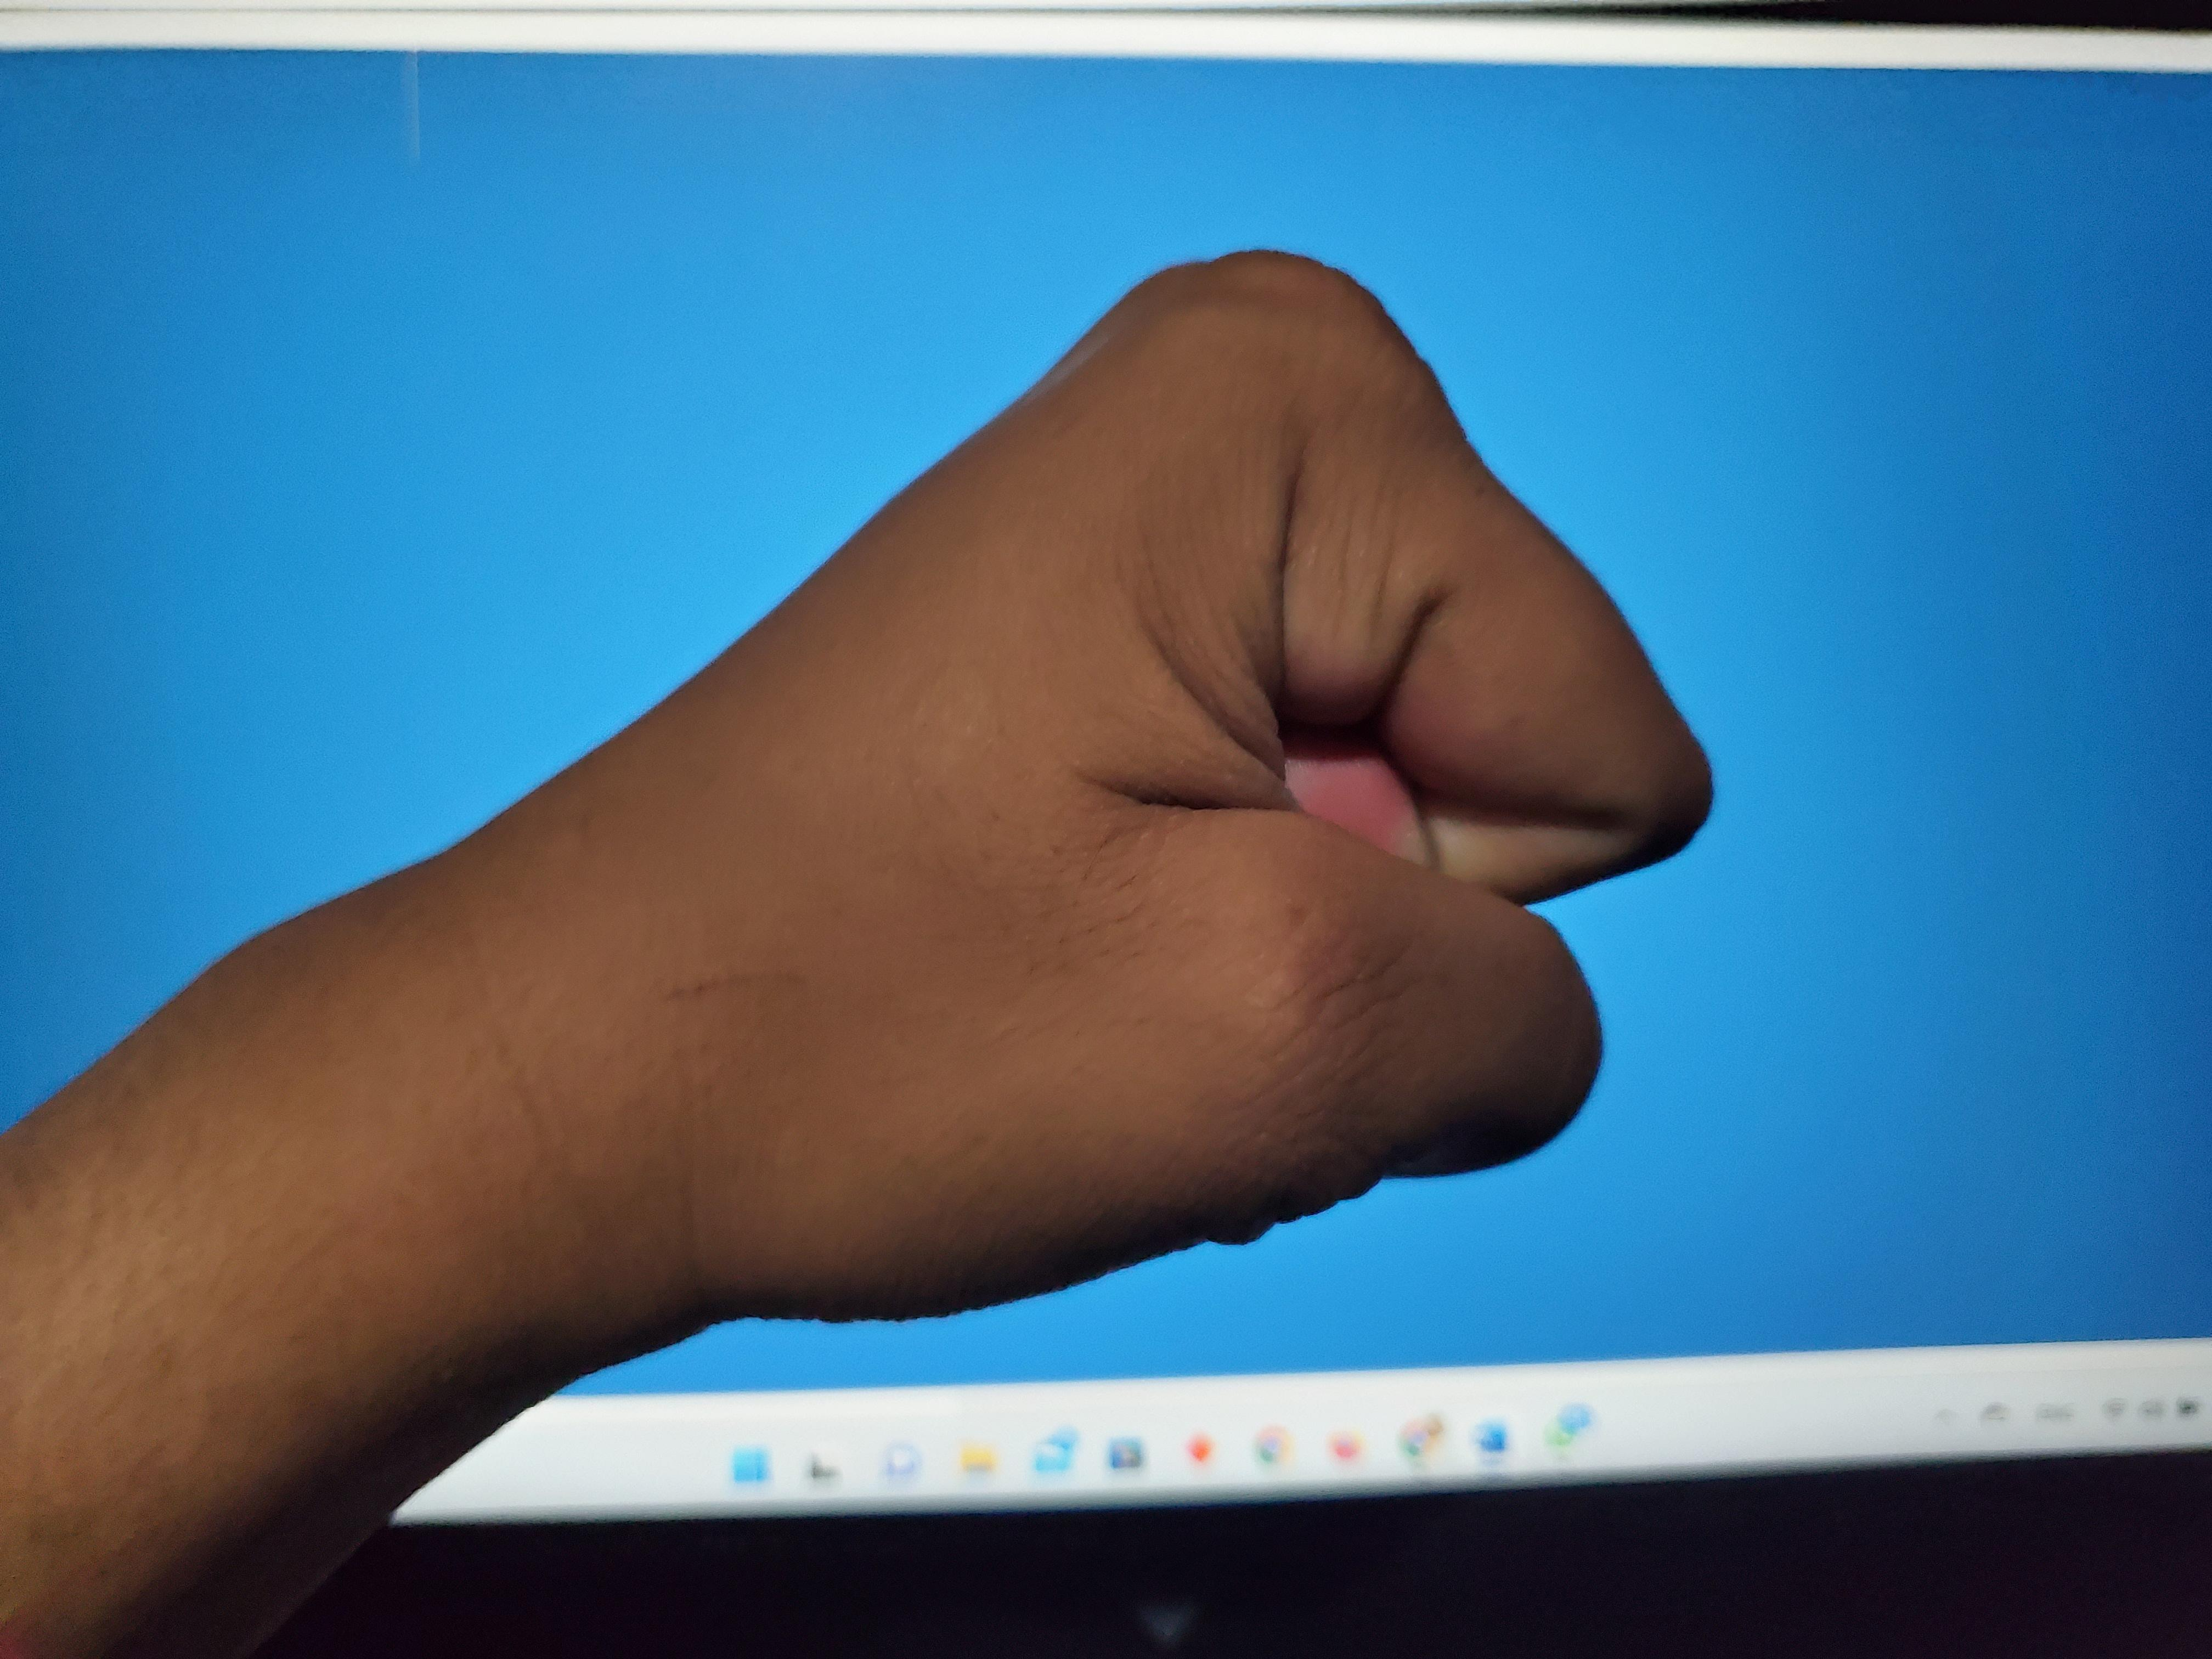Stone: (209, 112, 2067, 1570)
